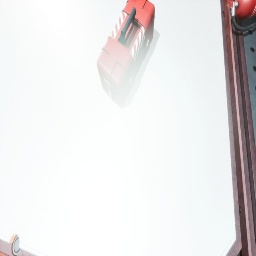FireExtinguisher ]: (227, 0, 256, 32)
FirstAidBox ,: (97, 0, 155, 107)
